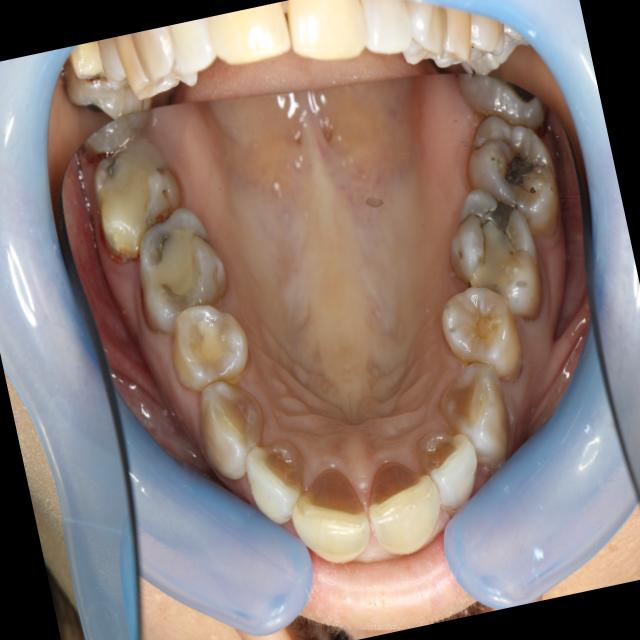tooth: (427, 164, 559, 342), (111, 193, 250, 348), (449, 90, 576, 258), (76, 125, 199, 273), (275, 442, 381, 579), (425, 347, 525, 490), (427, 273, 536, 404), (154, 287, 264, 408), (445, 39, 557, 154), (355, 443, 452, 568), (183, 365, 279, 491), (403, 409, 491, 525), (235, 422, 320, 535), (74, 100, 163, 168)
